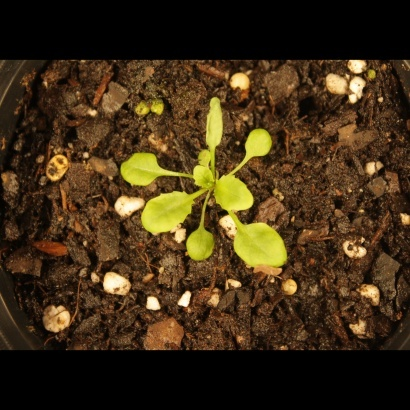leaf: (234, 219, 292, 280), (139, 191, 199, 238), (117, 145, 166, 188), (211, 174, 262, 215), (201, 89, 229, 152), (238, 119, 280, 161), (183, 227, 218, 271), (195, 167, 218, 194), (192, 147, 215, 170)
